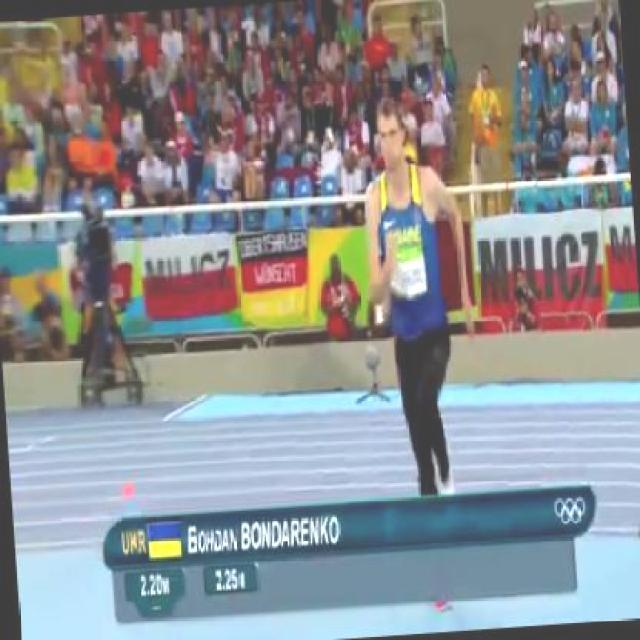non-fight: (357, 95, 485, 498)
